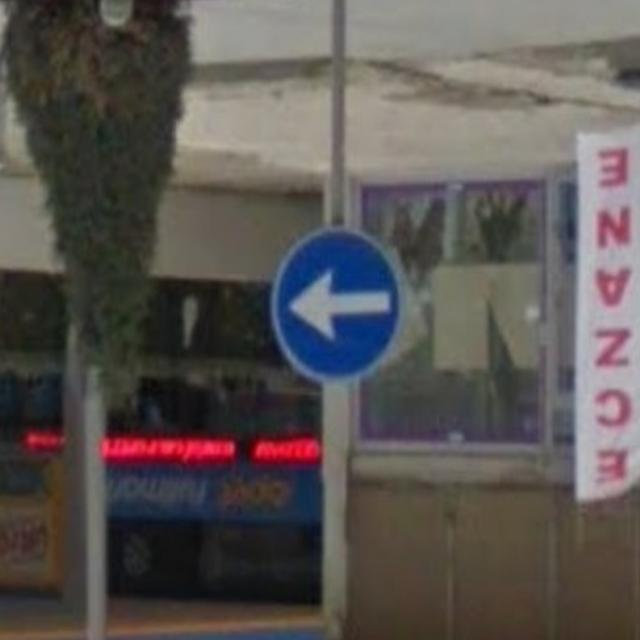Turn Left: (275, 227, 401, 381)
